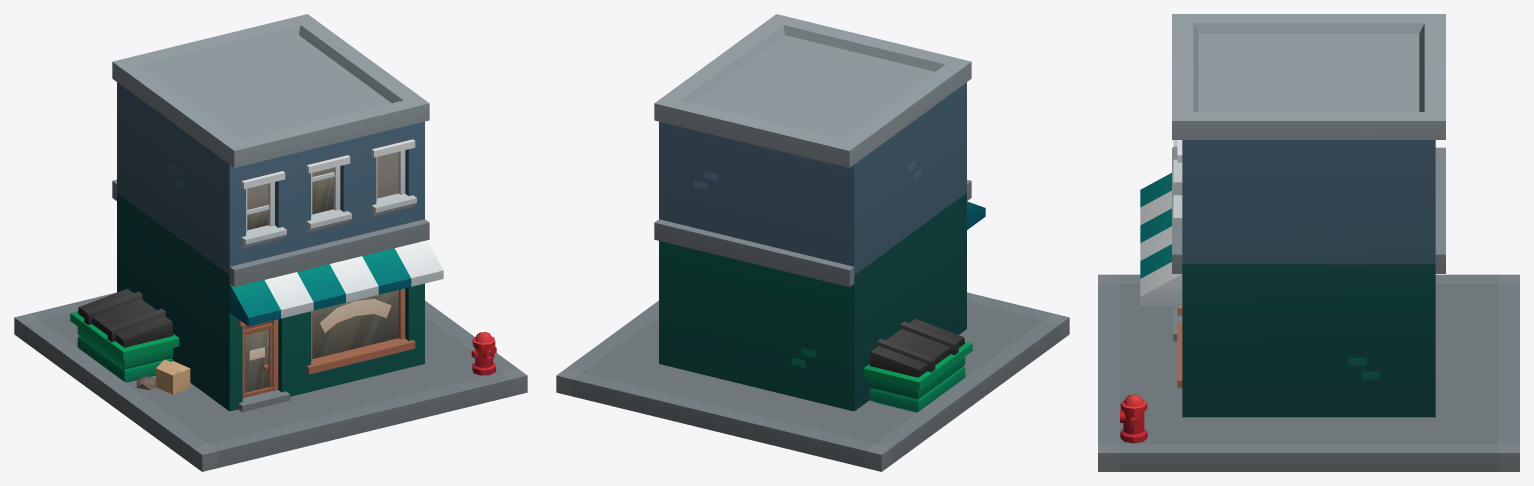
The model's file is building_free_model.glb.
3 views of the same model, side by side, from view 1: azimuth 30°, elevation 25°; view 2: azimuth 150°, elevation 25°; view 3: azimuth 270°, elevation 25° (orthographic). The views are drawn at different scales.
Parts seen in each view (by area): view 1: building_A; view 2: building_A; view 3: building_A.
Part boxes in pixels (x1,y1,x2,y2): building_A: (14,14,527,471); building_A: (556,14,1069,471); building_A: (1098,14,1519,471).
Bounding box in the file's own units: 2 × 1.65 × 2.
1 material, 1 textured.
